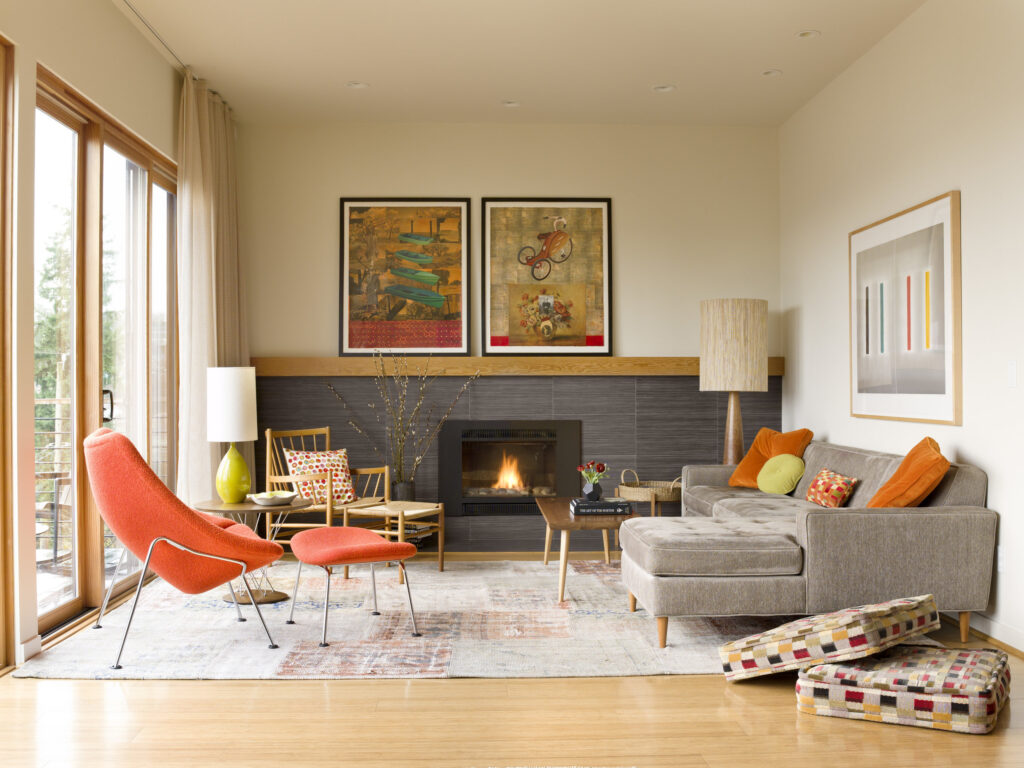coklat: (536, 495, 614, 592)
hijau: (214, 445, 249, 498), (762, 457, 796, 494)
orange: (85, 438, 238, 589), (294, 524, 412, 565), (880, 442, 944, 506)
putih: (203, 367, 257, 440)
